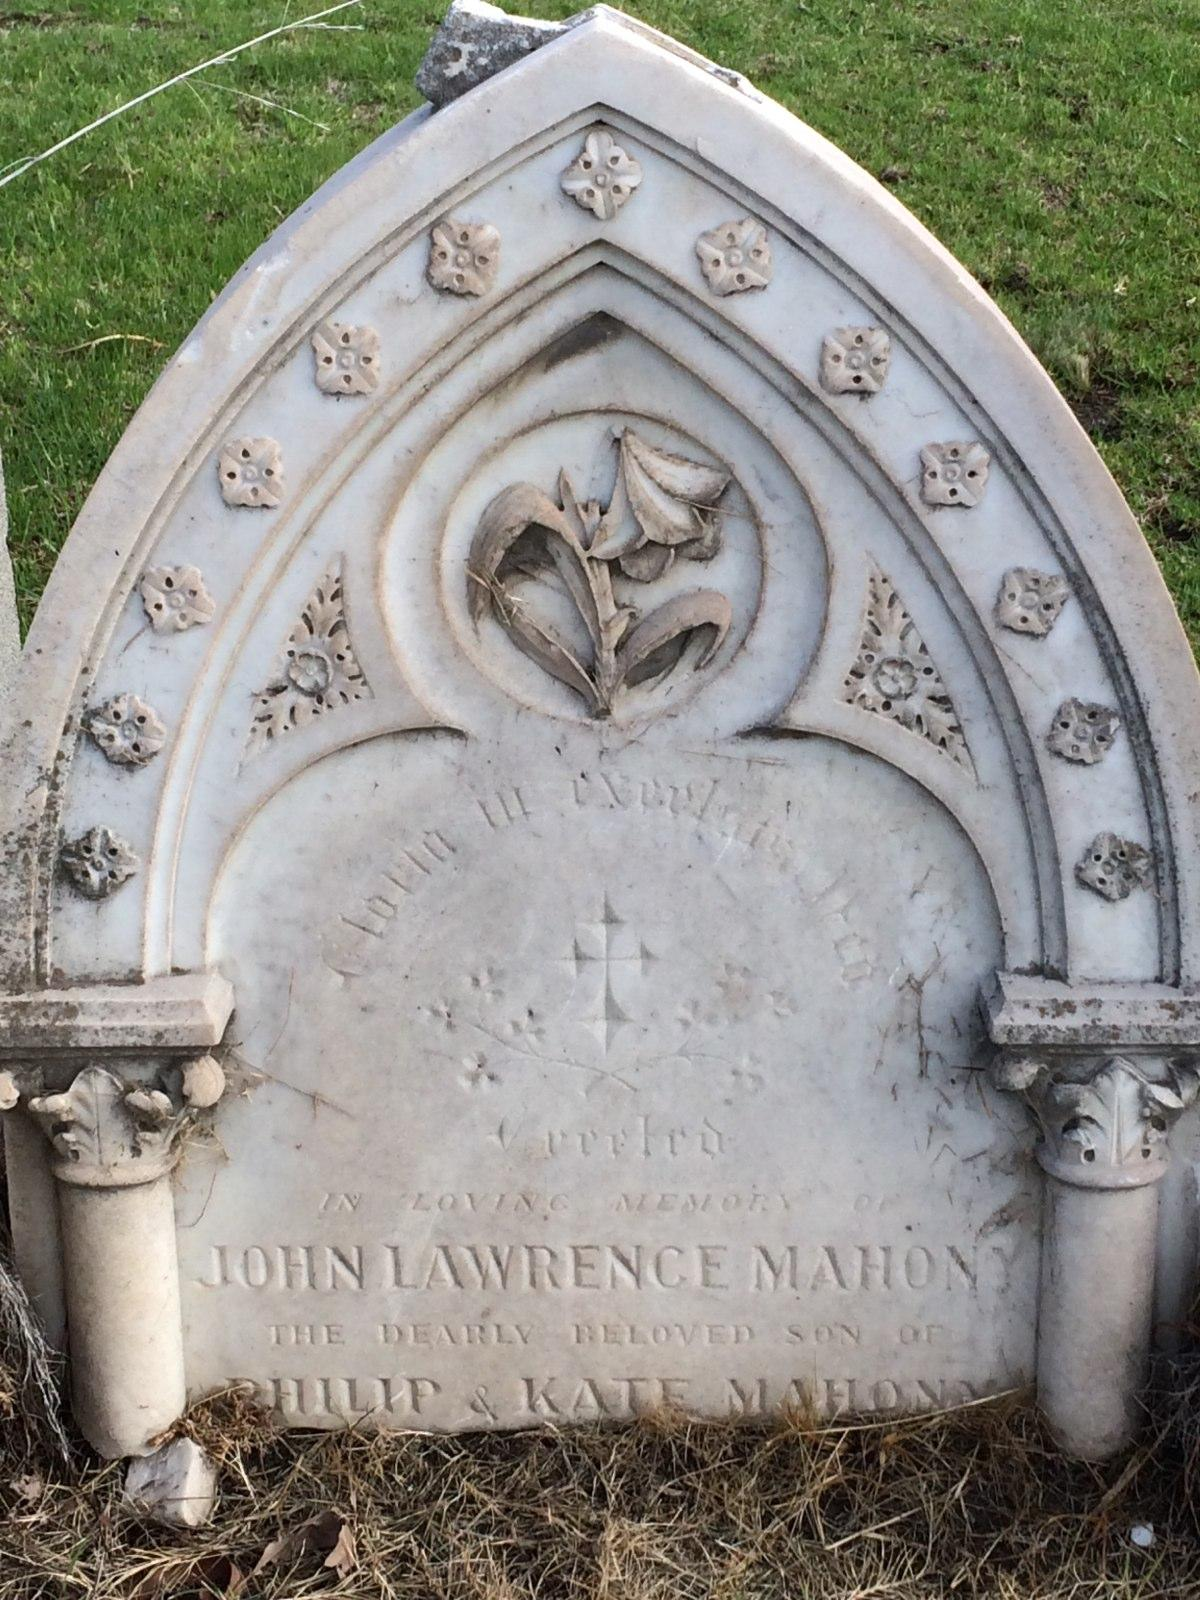upright: (0, 3, 1200, 1503)
